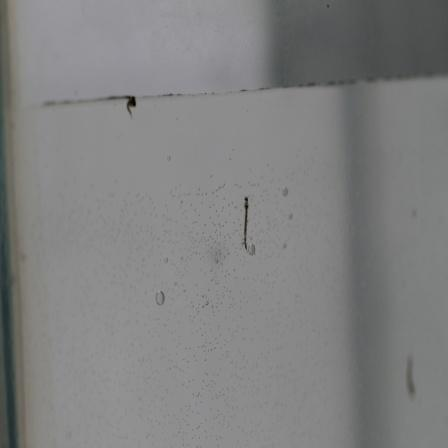Jentik-Nyamuk: (234, 196, 257, 249), (123, 94, 141, 117)
